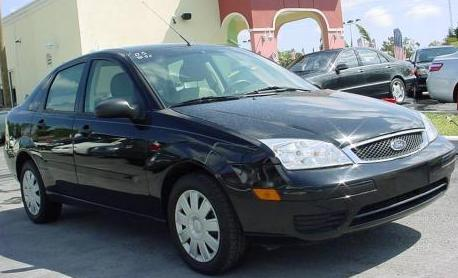front_view: (252, 104, 450, 224)
headlight: (257, 126, 368, 173)
side_glass: (28, 60, 160, 127)
